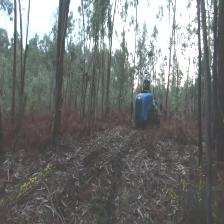trunktrack_idkeyframe: (53, 1, 70, 134), (203, 42, 214, 223), (196, 1, 202, 165), (105, 21, 114, 113), (11, 0, 17, 120), (18, 3, 24, 78)
